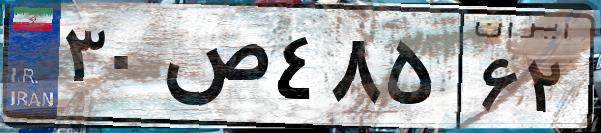0: (110, 28, 158, 98)
2: (525, 38, 570, 115)
3: (57, 26, 110, 100)
4: (270, 28, 330, 110)
5: (385, 28, 445, 110)
6: (475, 38, 525, 113)
8: (330, 28, 385, 110)
ص: (158, 20, 270, 120)
